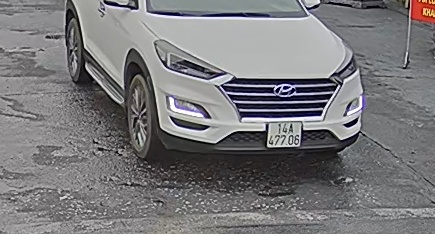vehicle plate: (263, 117, 303, 149)
